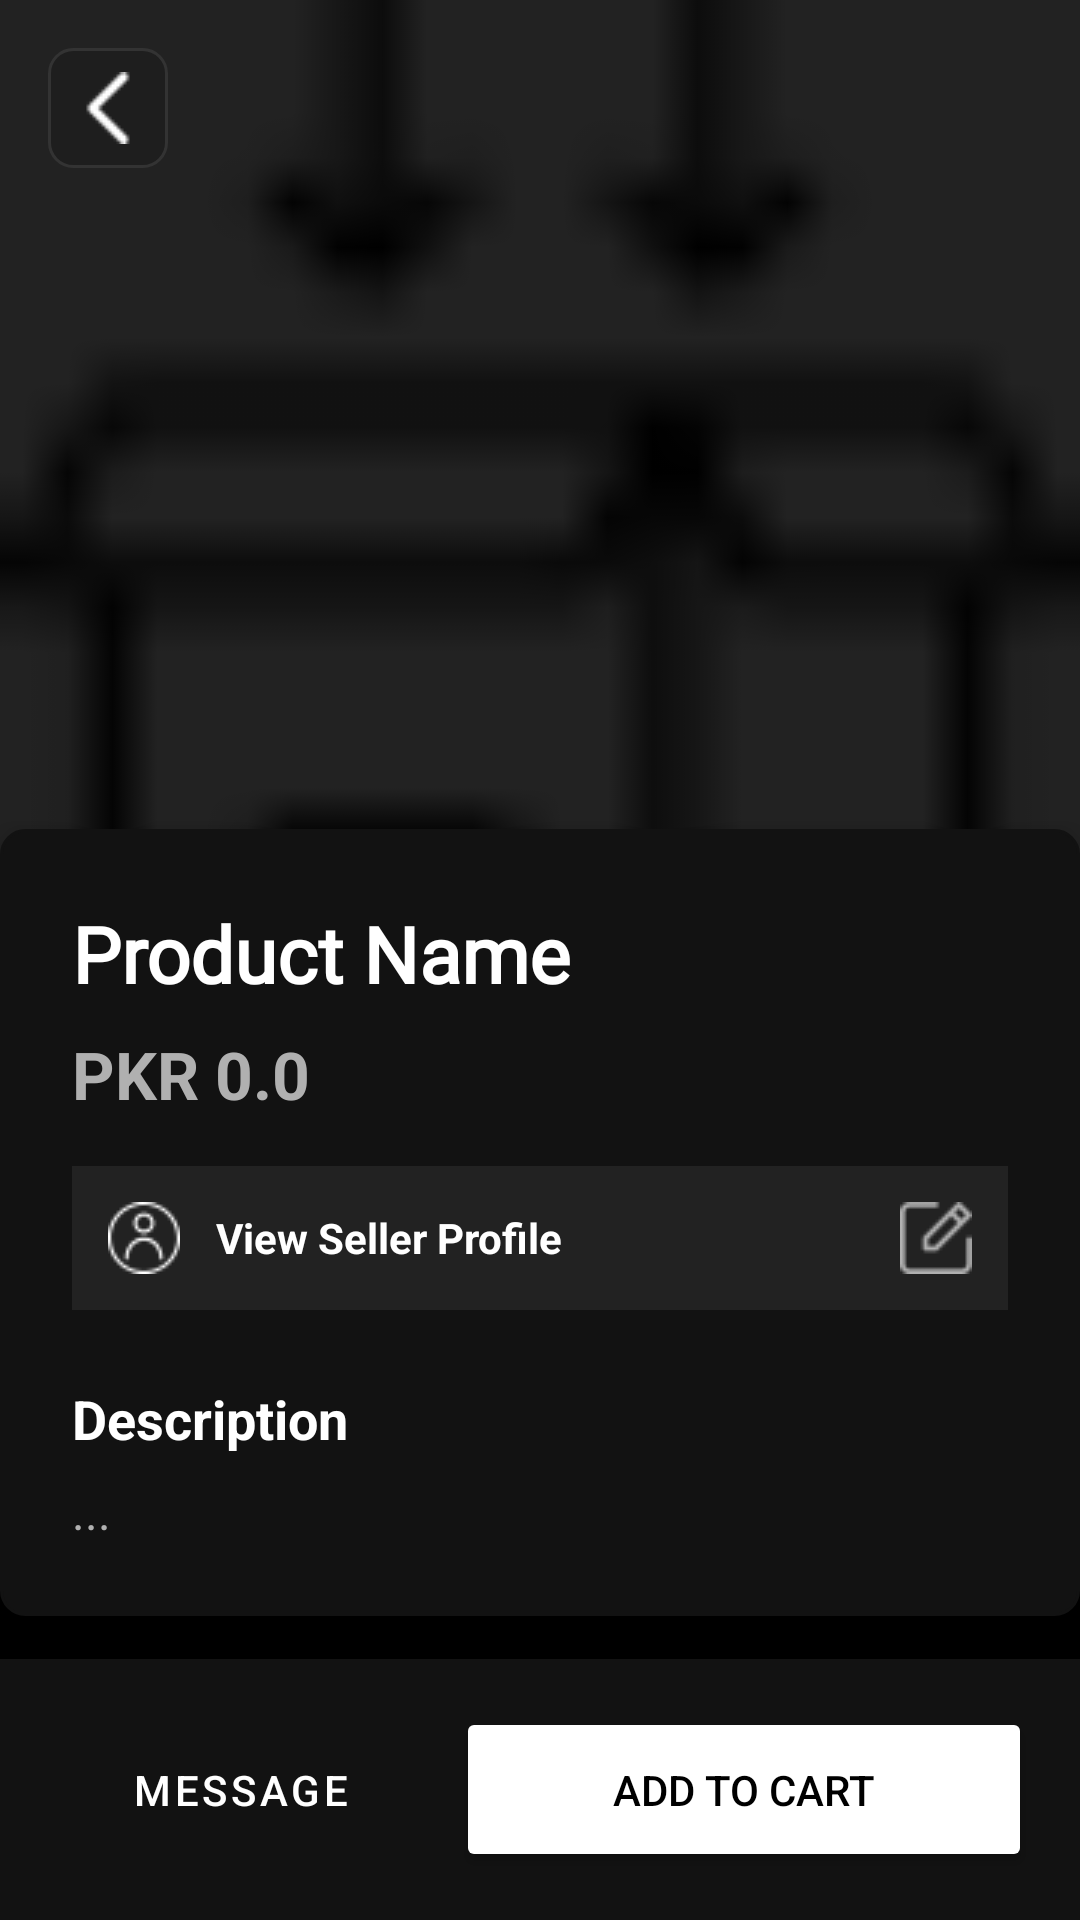

Icon bounding boxes for this 1080×1920 phone screenshot, format bbox(x1, y1, x2, y2):
back arrow: bbox(86, 72, 130, 144)
edit: bbox(900, 1202, 972, 1274)
person: bbox(108, 1202, 180, 1274)
